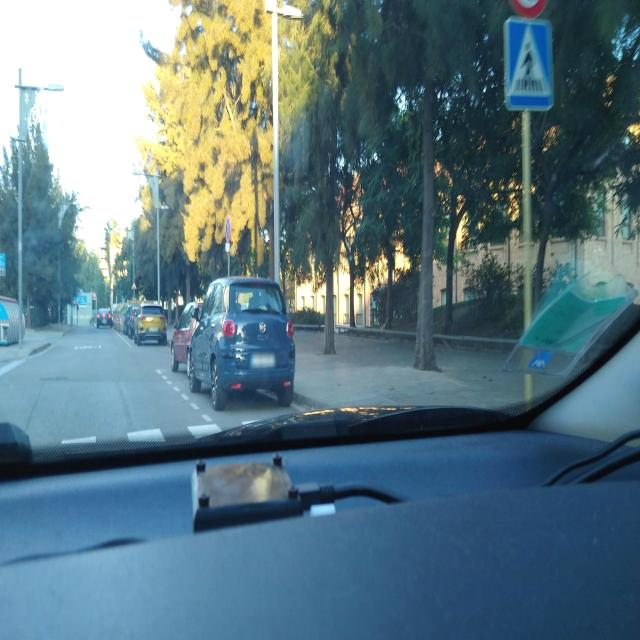car: (188, 276, 296, 411), (170, 300, 202, 374), (134, 300, 168, 346), (128, 305, 140, 338), (96, 308, 112, 328), (122, 305, 132, 334)
